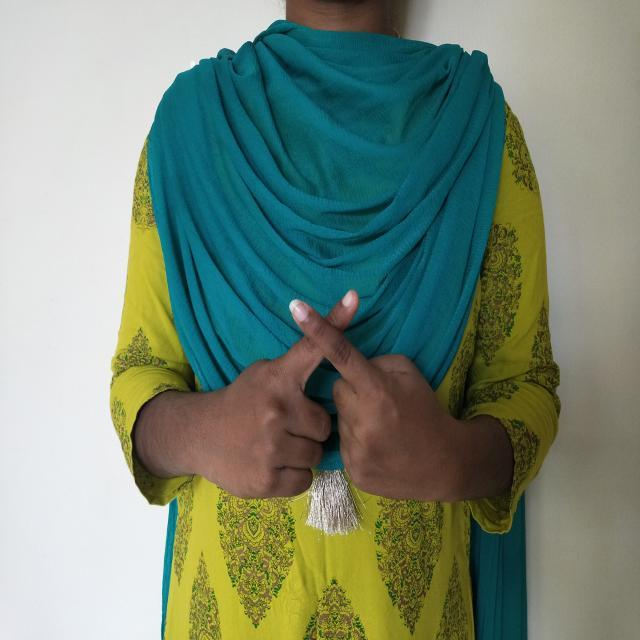X: (184, 270, 458, 530)
